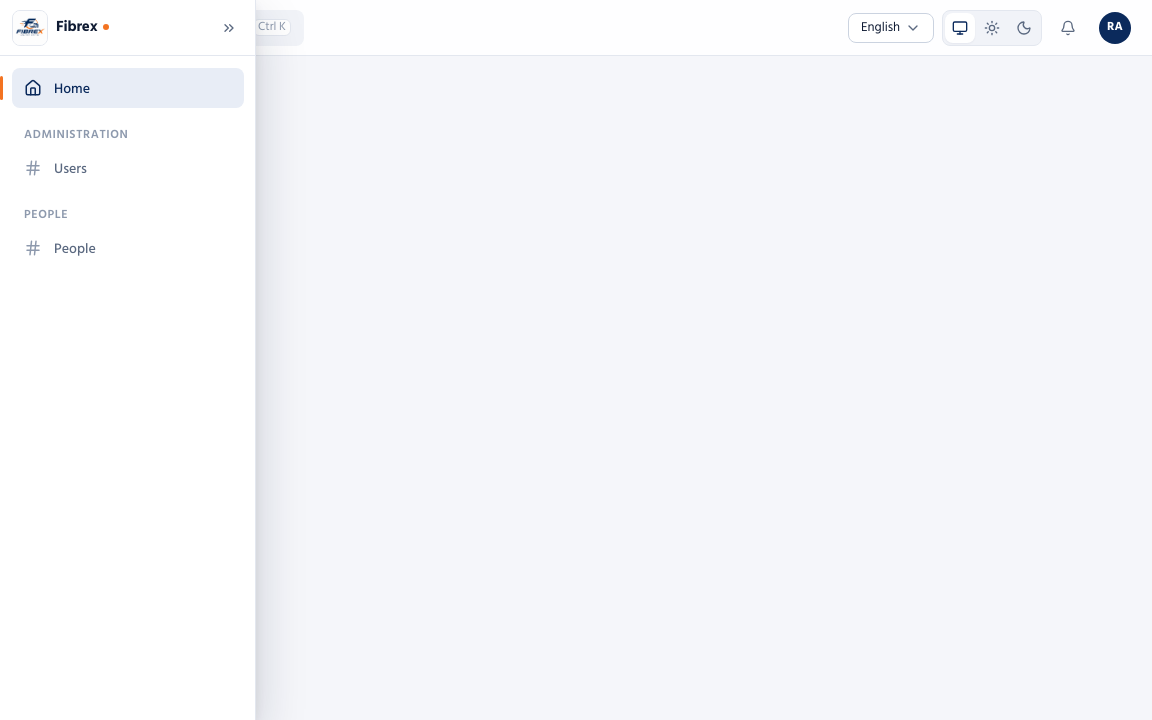
Scenario: responsive shell › on a tablet: the sidebar is an icon rail that the toggle keeps open
Step 1. Click the button named "Keep the menu open" → click(229, 28), box [214,12,244,42]
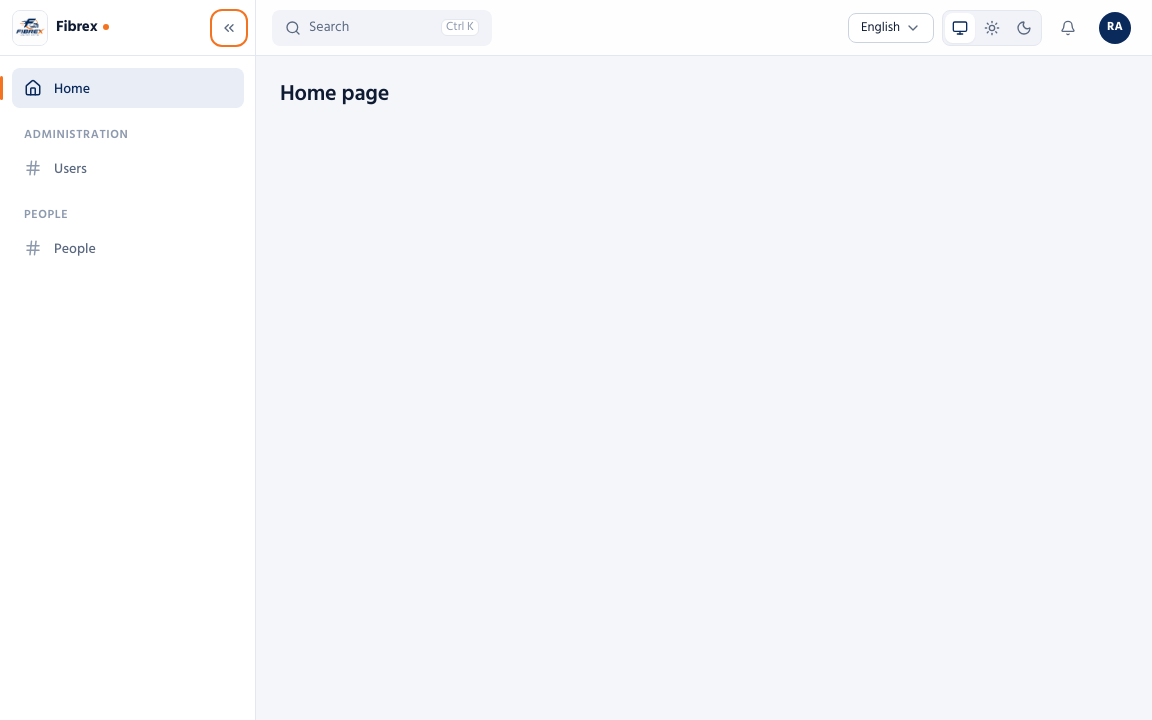
Expected: the navigation bar named "Menu" has attribute data-mode="full", [0,0,256,719]
